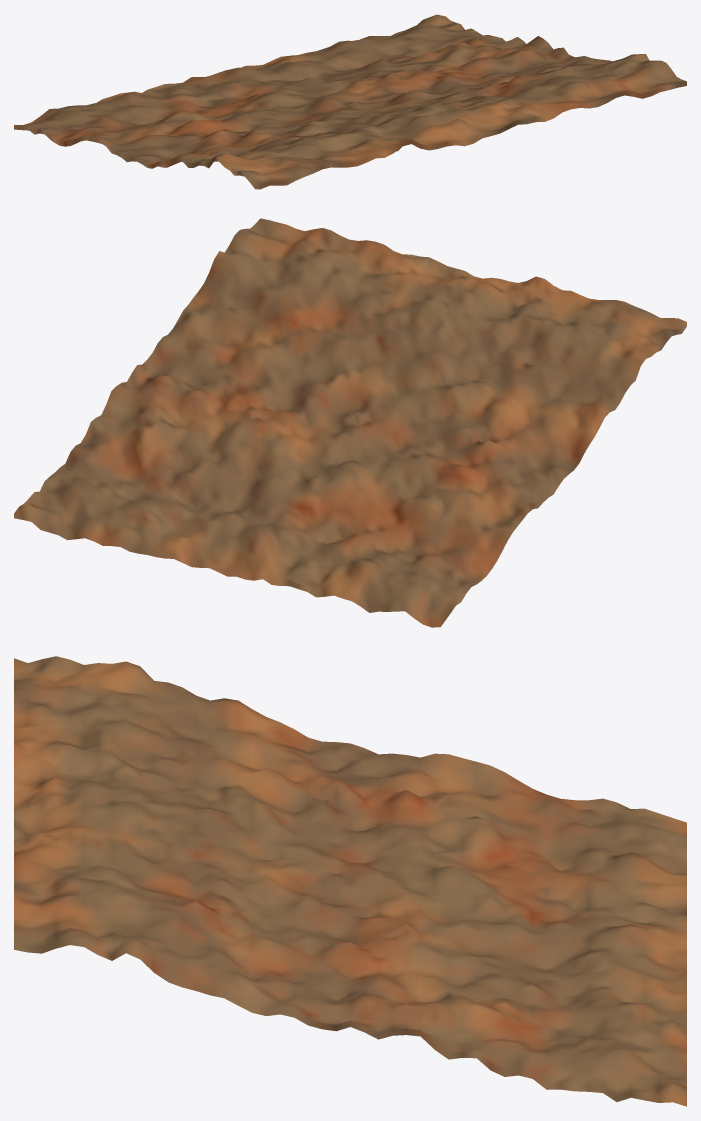
File: terrain-154.glb
3 views of the same model, one above another, from view 1: azimuth 30°, elevation 25°; view 2: azimuth 150°, elevation 25°; view 3: azimuth 270°, elevation 25° (orthographic). The views are drawn at different scales.
Visible parts, largest first — view 1: terrain-154; view 2: terrain-154; view 3: terrain-154.
Part boxes in pixels (x1=…): terrain-154: x1=14, y1=14, x2=686, y2=189; terrain-154: x1=14, y1=218, x2=686, y2=627; terrain-154: x1=14, y1=656, x2=686, y2=1106.
Size of the model in its own units: 384 by 118 by 384.
